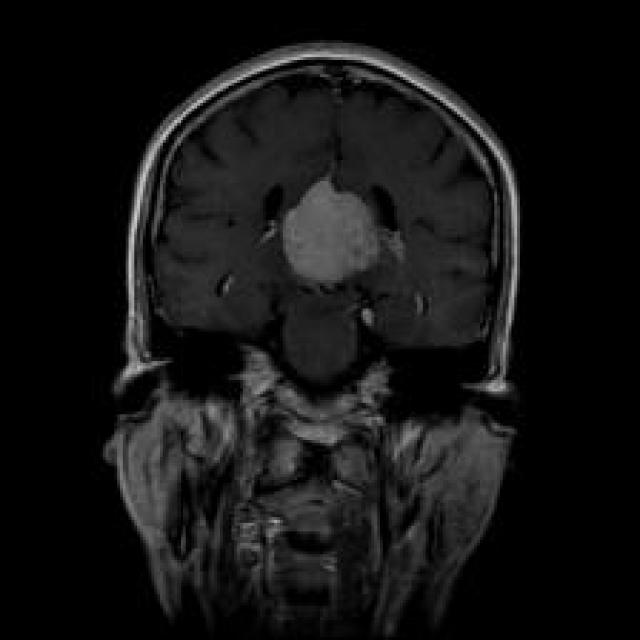meningioma_tumor: (270, 158, 394, 304)
